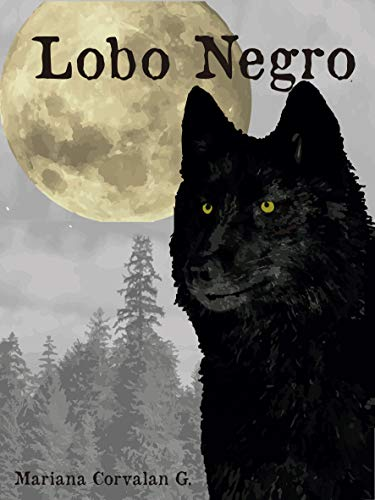Lobo: (154, 70, 375, 473)
